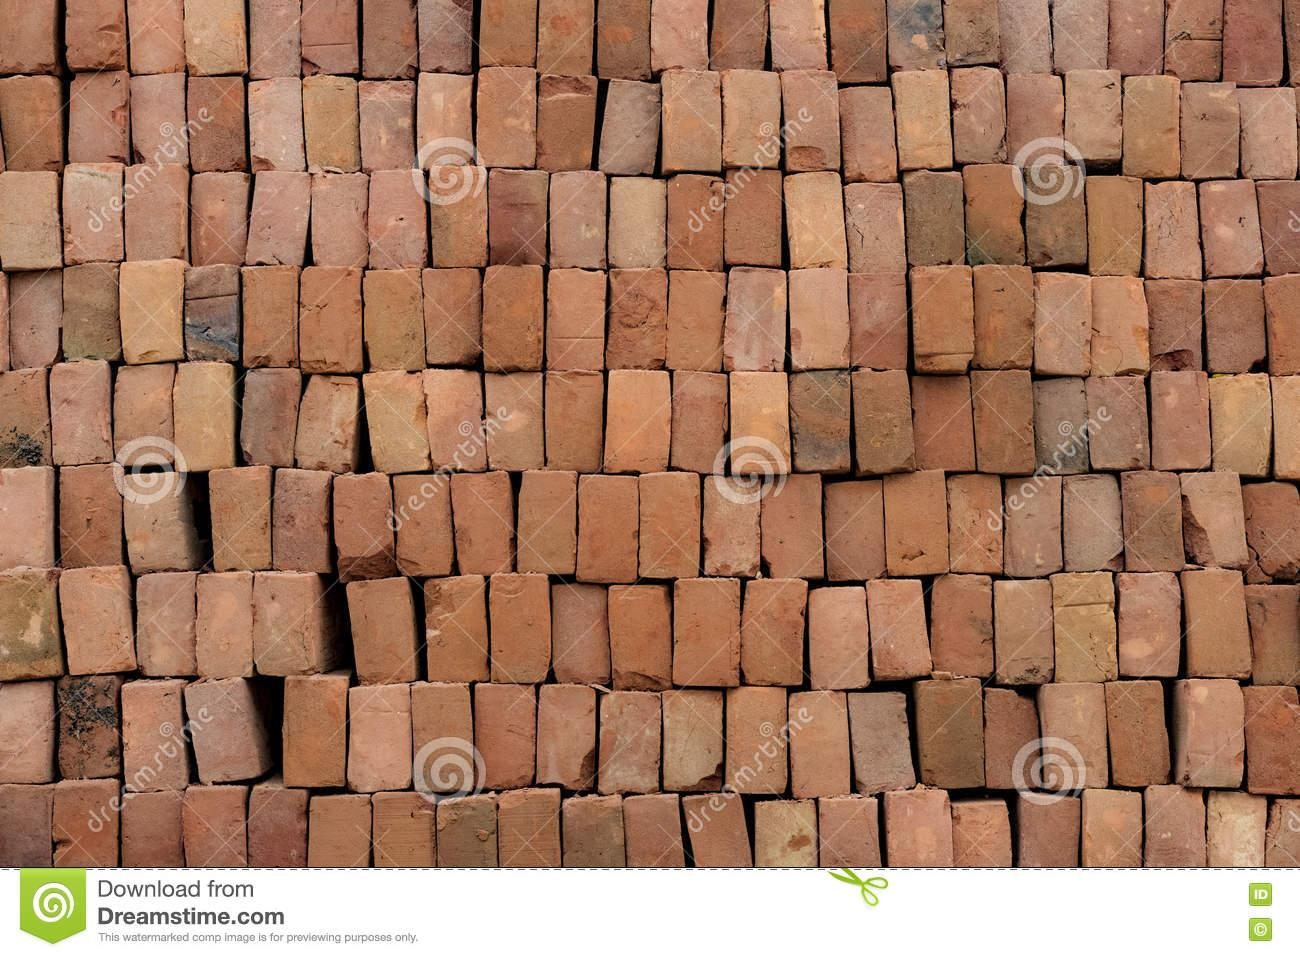brick: (60, 564, 136, 672), (185, 676, 260, 782), (346, 576, 418, 685), (1182, 570, 1253, 677), (673, 578, 740, 689), (1040, 681, 1108, 788), (1051, 571, 1117, 681), (282, 677, 348, 786), (741, 579, 808, 684), (918, 678, 983, 787), (122, 682, 187, 791), (425, 574, 490, 682), (605, 370, 671, 474), (363, 370, 431, 472), (884, 470, 950, 575), (124, 472, 193, 572), (852, 367, 915, 474), (348, 685, 412, 792), (850, 693, 916, 794), (1104, 681, 1169, 786), (300, 267, 363, 371), (865, 578, 932, 678), (50, 362, 115, 465), (173, 363, 234, 471), (911, 267, 974, 373), (724, 267, 786, 371), (761, 473, 824, 578), (61, 464, 124, 567), (1179, 471, 1249, 565), (972, 369, 1035, 473), (1117, 572, 1180, 676), (410, 683, 472, 787), (491, 573, 550, 682), (120, 261, 184, 363), (640, 472, 701, 577), (0, 569, 60, 677), (610, 586, 670, 692), (1120, 471, 1185, 570), (483, 264, 543, 371), (578, 474, 638, 581), (962, 165, 1025, 264), (1023, 166, 1086, 267), (598, 690, 660, 791), (730, 371, 790, 475), (474, 684, 535, 788), (1199, 180, 1264, 277), (244, 172, 311, 265), (211, 465, 270, 570), (136, 572, 196, 677), (789, 692, 849, 796), (424, 368, 484, 471), (451, 471, 512, 574), (363, 269, 425, 369), (931, 574, 992, 675), (1242, 686, 1300, 794), (727, 687, 785, 793), (789, 269, 850, 370), (1209, 373, 1270, 474), (1239, 481, 1300, 582), (295, 375, 358, 471), (546, 268, 607, 368), (63, 165, 124, 263), (994, 579, 1053, 683), (517, 470, 576, 572), (545, 368, 603, 473), (0, 171, 62, 269), (974, 265, 1033, 368), (1033, 272, 1091, 375), (808, 587, 867, 689), (476, 67, 536, 168), (790, 371, 850, 472), (254, 572, 314, 673), (662, 690, 722, 791), (666, 272, 727, 370), (1187, 679, 1243, 785), (537, 685, 594, 789), (608, 269, 666, 370), (826, 480, 884, 581), (61, 675, 119, 777), (274, 466, 330, 571), (784, 172, 845, 270), (662, 70, 721, 171), (485, 371, 545, 470), (394, 474, 453, 573), (196, 570, 251, 676), (1123, 77, 1181, 179), (913, 377, 975, 471), (892, 71, 952, 169), (241, 368, 301, 466), (0, 76, 61, 172), (430, 167, 488, 268), (114, 364, 175, 460), (1152, 371, 1210, 470), (537, 74, 597, 171), (1065, 474, 1124, 571), (242, 265, 299, 367), (782, 71, 840, 171), (600, 80, 660, 175), (124, 165, 184, 260), (368, 170, 426, 269), (903, 171, 964, 264), (553, 583, 609, 685), (549, 170, 606, 270), (1004, 477, 1062, 575), (1205, 280, 1266, 373), (1180, 82, 1238, 178), (671, 371, 726, 474), (705, 475, 760, 576), (1092, 277, 1149, 376), (984, 688, 1041, 787), (723, 70, 780, 167), (490, 169, 548, 263), (1244, 584, 1300, 684), (845, 183, 906, 273), (188, 77, 245, 173), (423, 268, 480, 363), (1086, 176, 1142, 275), (64, 263, 120, 360), (248, 78, 306, 173), (1, 466, 53, 570), (52, 784, 119, 866), (668, 174, 724, 272), (840, 87, 896, 183), (725, 170, 781, 265), (850, 273, 906, 368), (69, 72, 128, 163), (305, 76, 360, 173), (948, 476, 1003, 573), (1006, 74, 1064, 167), (1146, 182, 1200, 280), (953, 66, 1006, 165), (311, 174, 368, 265), (1086, 377, 1144, 468), (418, 72, 473, 167), (886, 790, 955, 867), (1238, 89, 1297, 179), (0, 681, 51, 783), (192, 173, 249, 263), (1223, 0, 1284, 86), (1145, 280, 1201, 371), (1035, 379, 1089, 473), (131, 75, 188, 166), (610, 177, 666, 268), (184, 785, 246, 867), (683, 793, 752, 867), (358, 81, 414, 172), (186, 263, 237, 361), (333, 472, 395, 554), (1146, 785, 1206, 867), (8, 274, 61, 367), (1, 370, 50, 469), (1066, 71, 1120, 158), (248, 785, 307, 867), (498, 793, 561, 868), (829, 0, 886, 82), (1165, 0, 1222, 81), (186, 0, 247, 75), (1083, 788, 1141, 868), (308, 796, 371, 868), (372, 792, 435, 865), (123, 791, 185, 865), (1208, 790, 1267, 866), (624, 794, 684, 867), (1019, 792, 1078, 867), (301, 0, 358, 76), (362, 0, 417, 79), (0, 783, 52, 865), (562, 796, 624, 866), (437, 796, 498, 867), (755, 800, 818, 867), (128, 0, 185, 75), (67, 0, 127, 70), (821, 799, 881, 868), (598, 1, 651, 80), (537, 1, 594, 74), (0, 0, 57, 74), (418, 0, 473, 73), (1052, 0, 1107, 73), (1258, 181, 1300, 275), (1108, 0, 1163, 73), (710, 0, 767, 69), (887, 0, 945, 69), (250, 0, 301, 78), (999, 0, 1053, 73), (651, 0, 708, 69), (770, 0, 827, 69), (944, 0, 1000, 65), (480, 1, 537, 66), (955, 804, 1012, 866), (1265, 276, 1300, 376), (1271, 377, 1300, 478)
